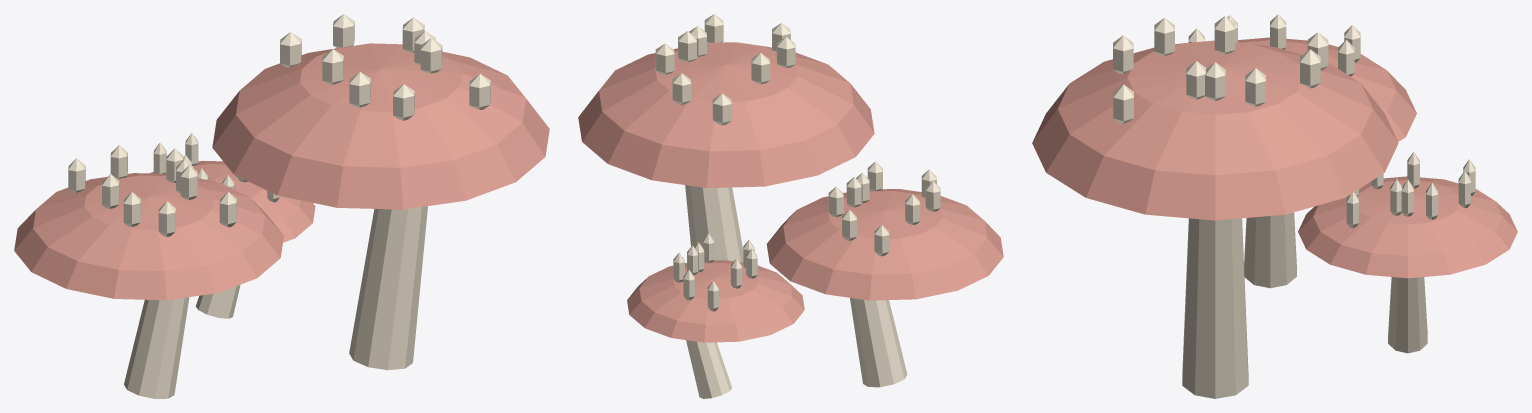
Rendered from small_mushrooms.glb.
The picture shows the model from 3 angles, left to right: view 1: azimuth 30°, elevation 25°; view 2: azimuth 150°, elevation 25°; view 3: azimuth 270°, elevation 25°; orthographic projection. The views are drawn at different scales.
Visible parts, largest first — view 1: small_mushrooms; view 2: small_mushrooms; view 3: small_mushrooms.
Boxes of the visible parts, x1=… form: small_mushrooms: x1=14, y1=14, x2=549, y2=398; small_mushrooms: x1=578, y1=14, x2=1003, y2=398; small_mushrooms: x1=1032, y1=14, x2=1517, y2=398.
Bounding box in the file's own units: 1.28 × 0.8349 × 1.06.
